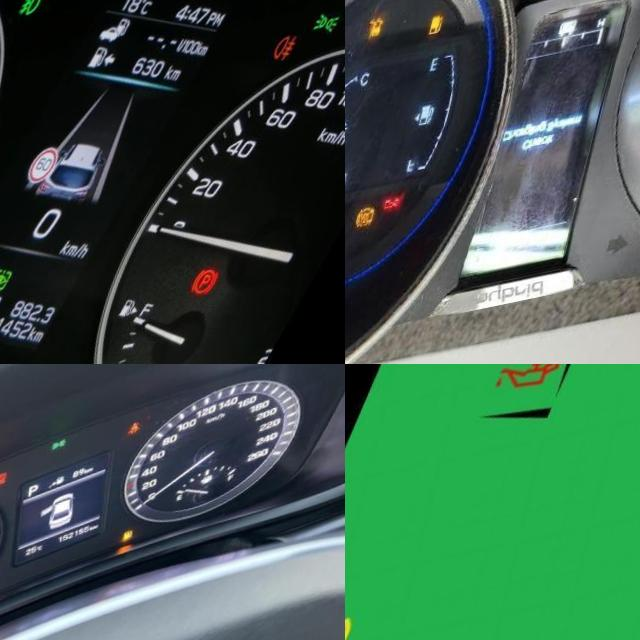Seat Belt: (136, 436, 150, 451)
